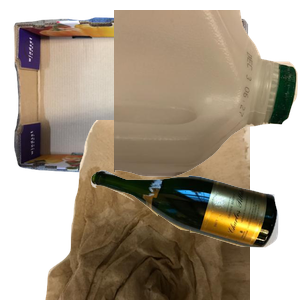cardboard: (11, 13, 251, 182)
glass: (88, 167, 300, 300)
plastic: (114, 10, 300, 179)
trash: (43, 120, 283, 300)
